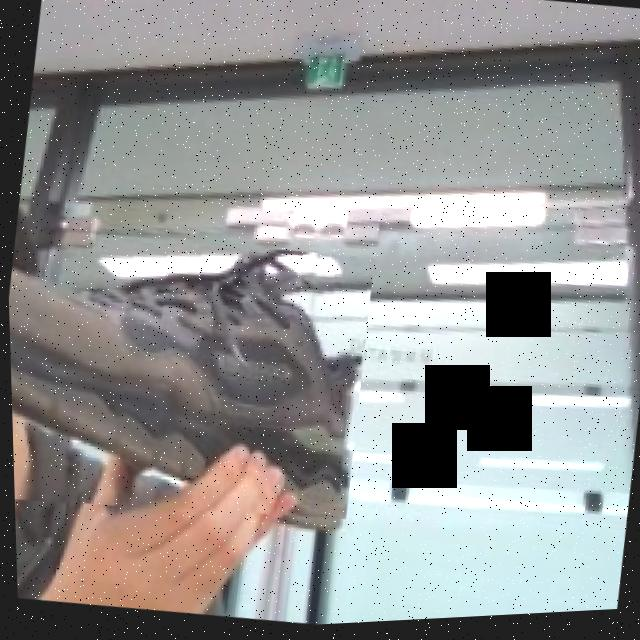shoe: (5, 212, 379, 546)
